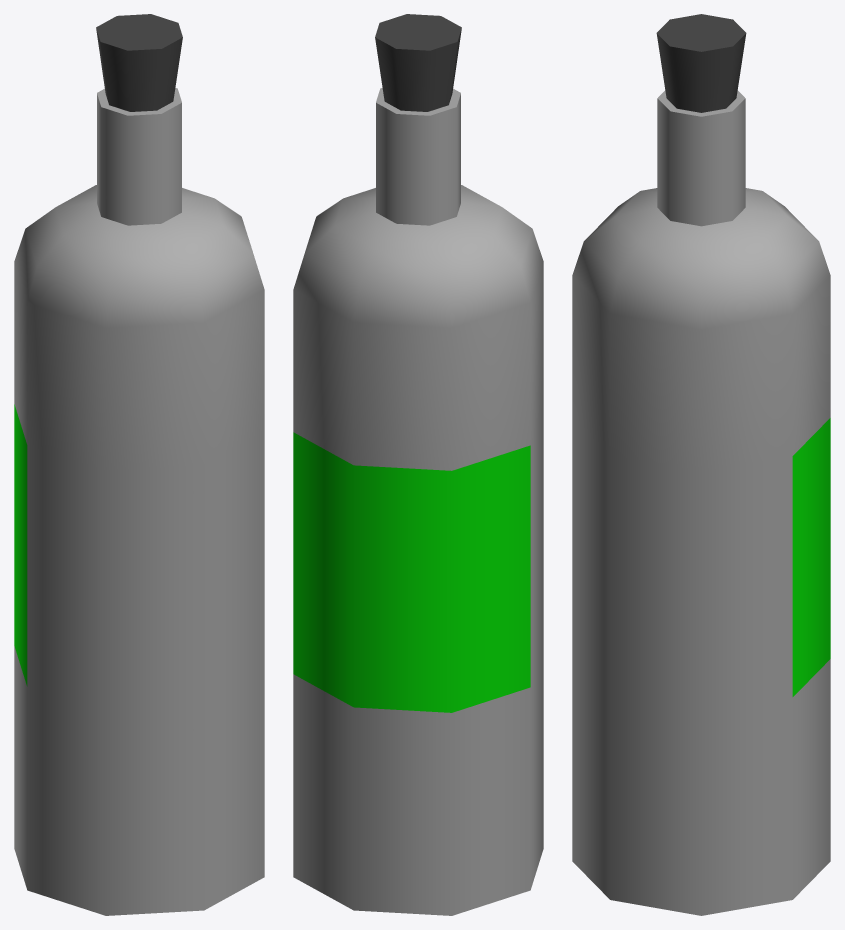
File: Bottle_2.fbx
3 views of the same model, side by side, from view 1: azimuth 30°, elevation 25°; view 2: azimuth 150°, elevation 25°; view 3: azimuth 270°, elevation 25° (orthographic).
Visible parts, largest first — view 1: Kitchen_Bottle_2; view 2: Kitchen_Bottle_2; view 3: Kitchen_Bottle_2.
Part boxes in pixels (x1,y1,x2,y2): Kitchen_Bottle_2: [14, 14, 264, 915]; Kitchen_Bottle_2: [293, 14, 543, 915]; Kitchen_Bottle_2: [572, 14, 830, 915].
Bounding box in the file's own units: 12.68 × 44.87 × 12.68.
